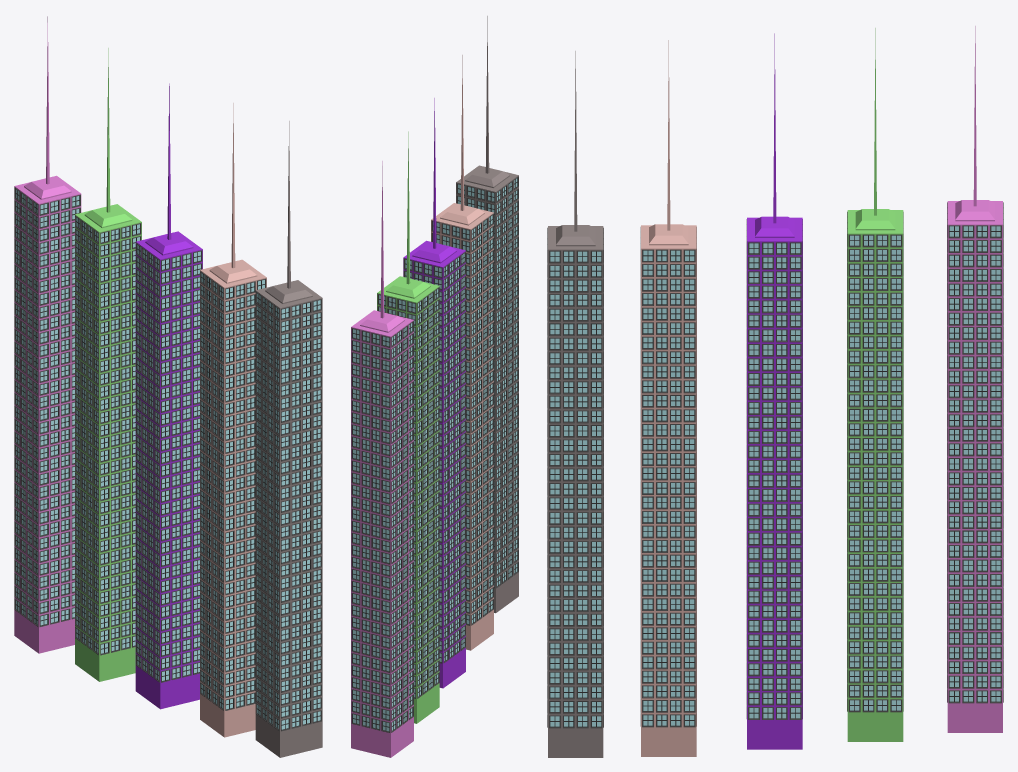
File: Scraper.fbx
The picture shows the model from 3 angles, left to right: view 1: azimuth 30°, elevation 25°; view 2: azimuth 150°, elevation 25°; view 3: azimuth 270°, elevation 25°; orthographic projection. The views are drawn at different scales.
Visible parts, largest first — view 1: Cube, Cube.002, Cube.004, Cube.003, Cube.001; view 2: Cube.004, Cube.001, Cube.002, Cube.003, Cube; view 3: Cube.002, Cube.003, Cube.001, Cube.004, Cube.
Part boxes in pixels (box(x1,y1,x2,y2)): Cube: box(255, 121, 322, 757); Cube.002: box(135, 83, 202, 709); Cube.004: box(14, 16, 81, 653); Cube.003: box(75, 48, 141, 681); Cube.001: box(200, 103, 266, 737); Cube.004: box(351, 161, 413, 757); Cube.001: box(431, 55, 493, 650); Cube.002: box(403, 98, 465, 688); Cube.003: box(377, 131, 439, 723); Cube: box(456, 16, 518, 613); Cube.002: box(746, 33, 802, 749); Cube.003: box(847, 28, 903, 741); Cube.001: box(640, 40, 696, 756); Cube.004: box(947, 26, 1003, 732); Cube: box(547, 51, 603, 757).
Size of the model in its own units: 3317 by 18645 by 10738.
